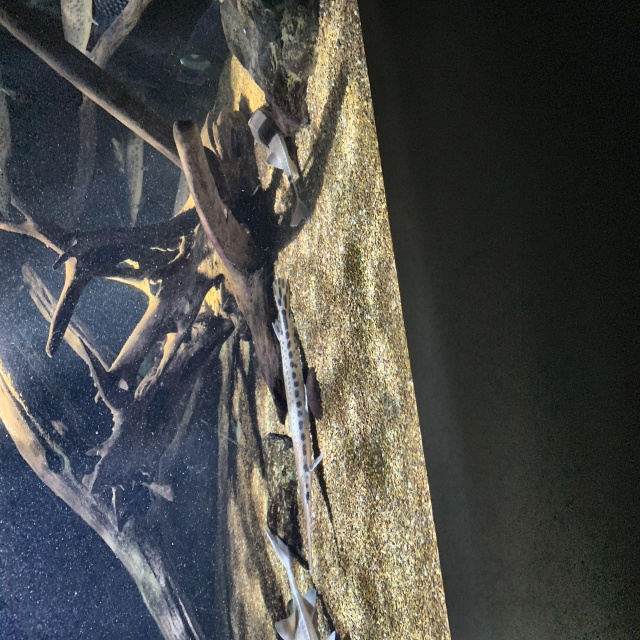fish: (272, 273, 320, 593)
shark: (265, 525, 334, 639), (248, 105, 313, 226)
